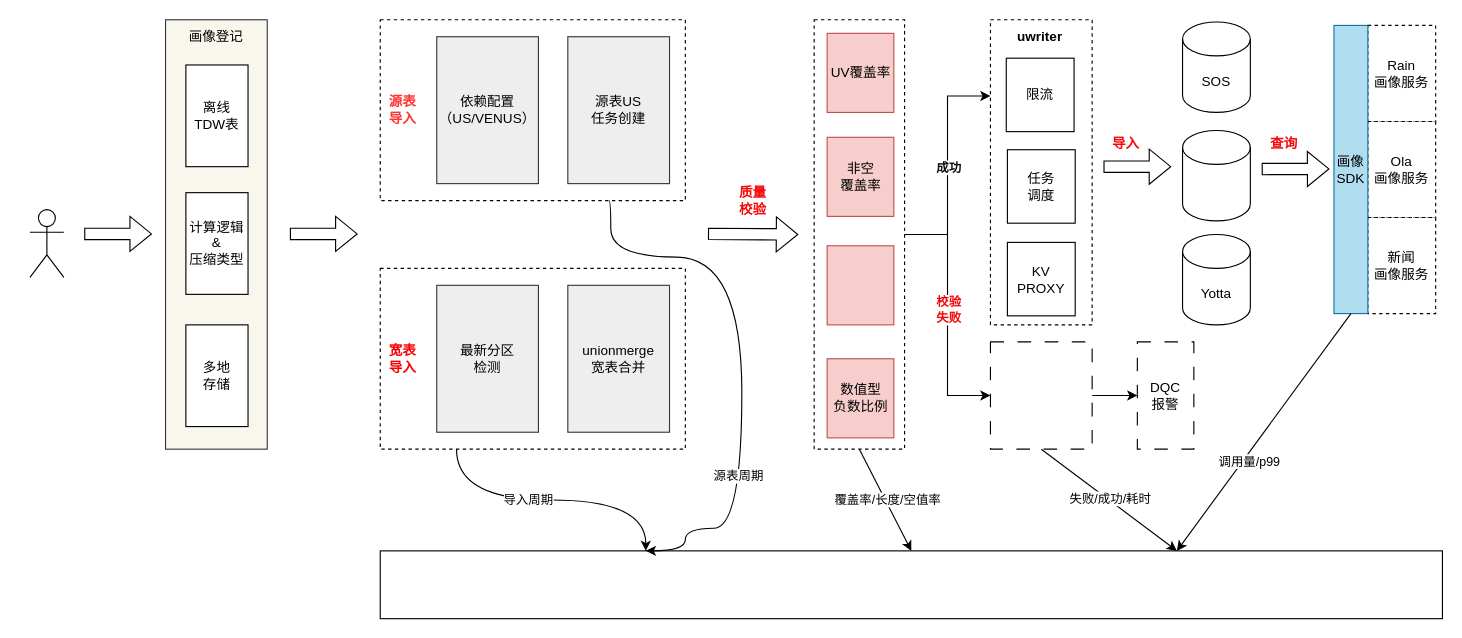
This 1462x638 diagram has some shape labels left out. Each missing label, with the centre of its shape:
"Redis" goes at pixel 1215 175.
"全链路监控" goes at pixel 910 584.
"画像 平均长度" goes at pixel 860 285.
"画像挖掘" goes at pixel 46 242.
"阻断 任务" goes at pixel 1040 395.
